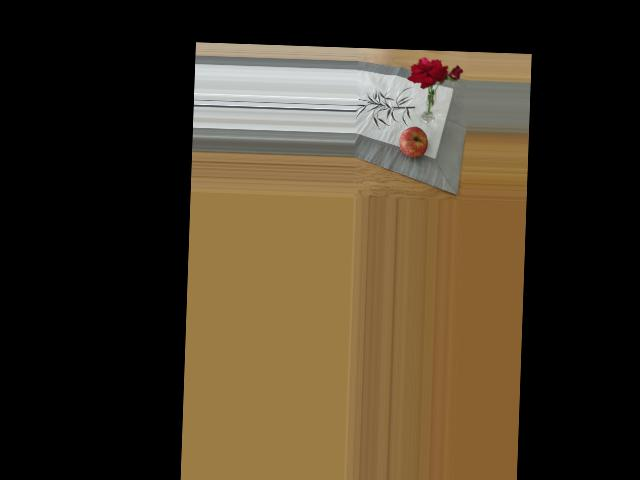apple: (398, 124, 431, 161)
